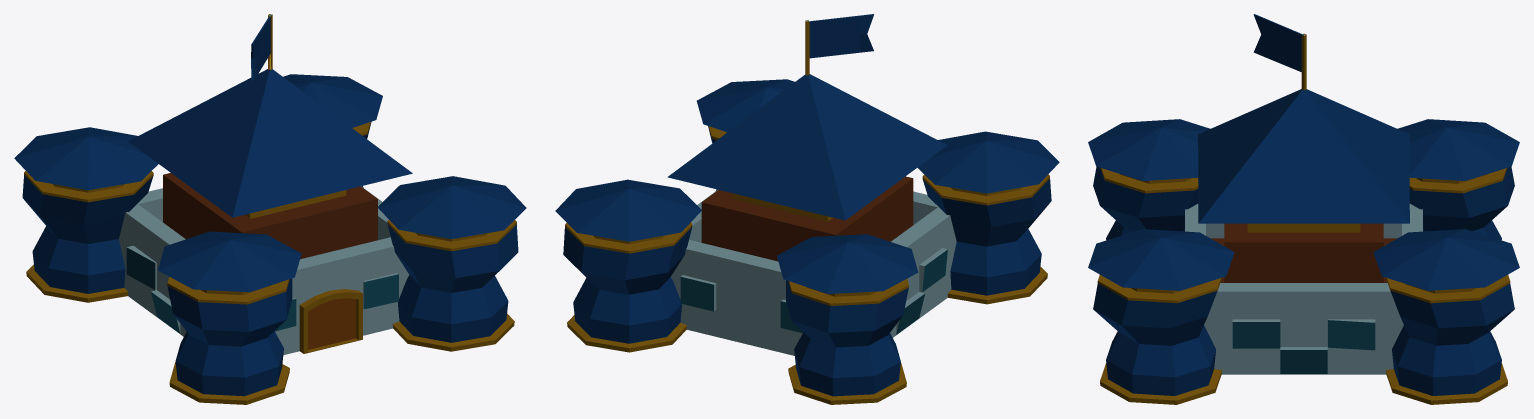
The model's file is BlueMainBuilding.fbx.
The picture shows the model from 3 angles, left to right: view 1: azimuth 30°, elevation 25°; view 2: azimuth 150°, elevation 25°; view 3: azimuth 270°, elevation 25°; orthographic projection. The views are drawn at different scales.
Parts seen in each view (by area): view 1: Cube; view 2: Cube; view 3: Cube.
Part boxes in pixels (<box>): Cube: <box>14,14,526,404</box>; Cube: <box>555,14,1059,404</box>; Cube: <box>1088,14,1519,404</box>.
Size of the model in its own units: 565 by 445 by 600.
